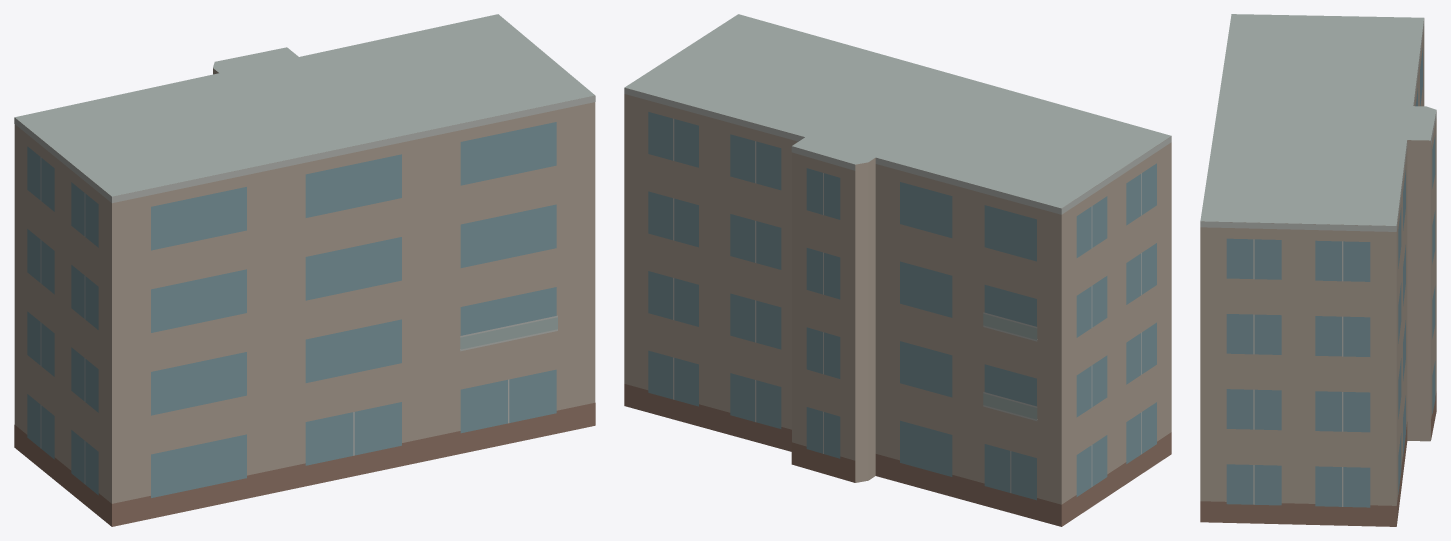
Rendered from survey-upis-32974105.glb.
The picture shows the model from 3 angles, left to right: view 1: azimuth 30°, elevation 25°; view 2: azimuth 150°, elevation 25°; view 3: azimuth 270°, elevation 25°; orthographic projection. The views are drawn at different scales.
Parts seen in each view (by area): view 1: survey-upis-32974105.tmp; view 2: survey-upis-32974105.tmp; view 3: survey-upis-32974105.tmp.
Part boxes in pixels (x1,y1,x2,y2): survey-upis-32974105.tmp: [14, 14, 595, 526]; survey-upis-32974105.tmp: [624, 14, 1171, 526]; survey-upis-32974105.tmp: [1200, 14, 1436, 526].
Size of the model in its own units: 18.6 by 12.3 by 8.77.
